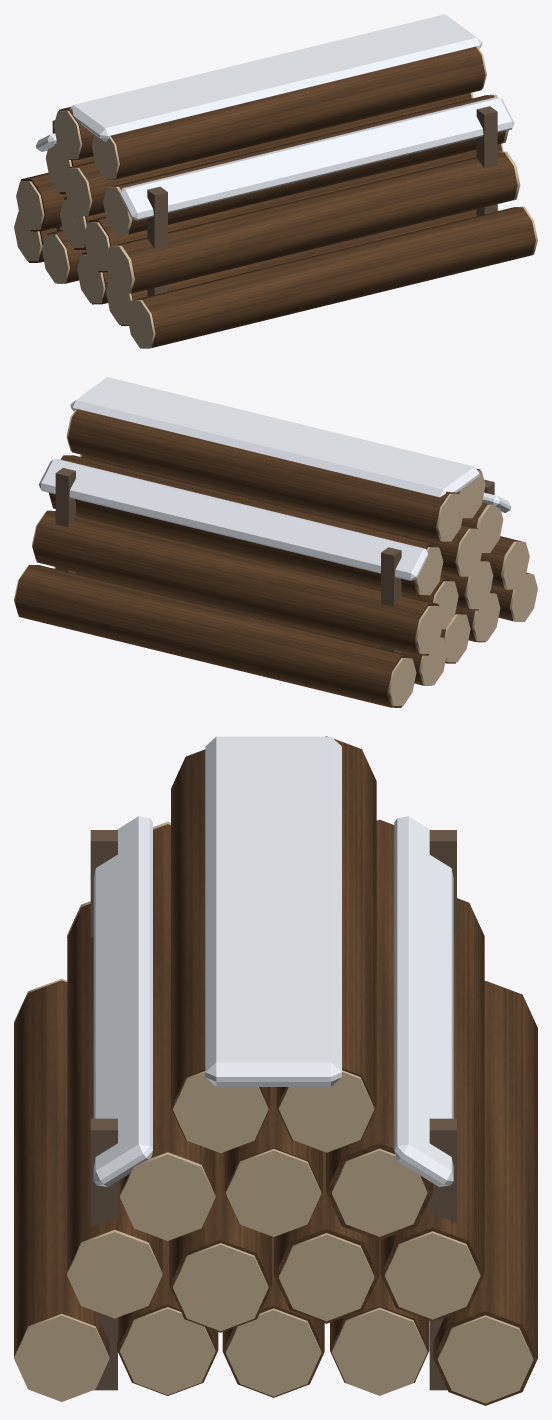
File: logs.glb
3 renders of one model, top to bottom at view 1: azimuth 30°, elevation 25°; view 2: azimuth 150°, elevation 25°; view 3: azimuth 270°, elevation 25°, orthographic. The views are drawn at different scales.
Visible parts, largest first — view 1: logs, snow, ends; view 2: logs, snow, ends; view 3: logs, snow, ends.
Part boxes in pixels (left/top/right/bottom): logs: left=18, top=46, right=535, bottom=347; snow: left=36, top=14, right=514, bottom=220; ends: left=14, top=47, right=537, bottom=348; logs: left=14, top=409, right=530, bottom=707; snow: left=38, top=377, right=511, bottom=580; ends: left=14, top=409, right=537, bottom=705; logs: left=14, top=736, right=537, bottom=1405; snow: left=93, top=736, right=453, bottom=1186; ends: left=14, top=821, right=533, bottom=1403.
Bounding box in the file's own units: 3.06 × 1.38 × 1.92.
4 materials, 1 textured.
